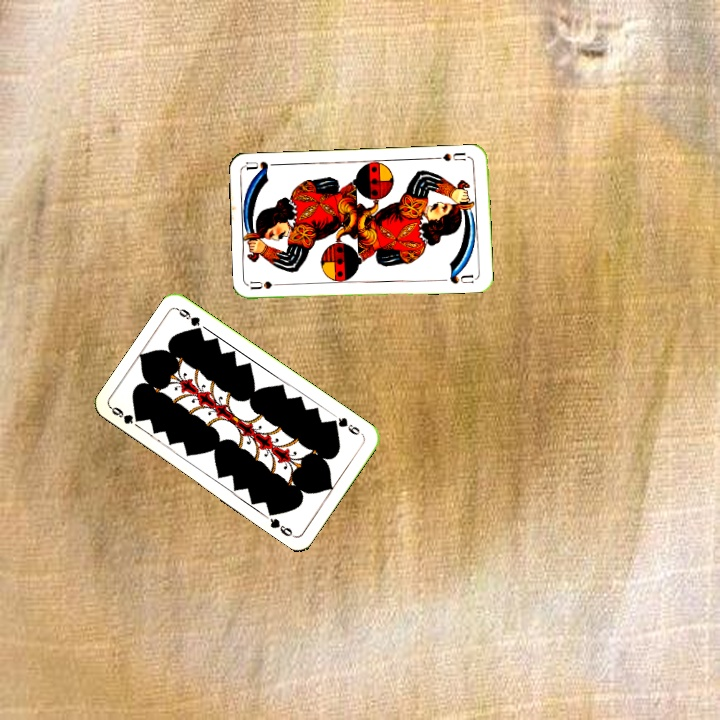G9: (327, 413, 366, 438), (107, 403, 143, 427)
SU: (248, 277, 288, 292), (432, 148, 468, 163)
